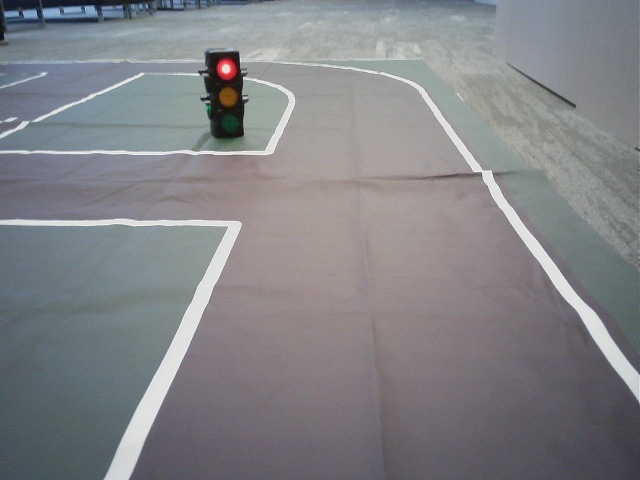red: (211, 56, 240, 133)
